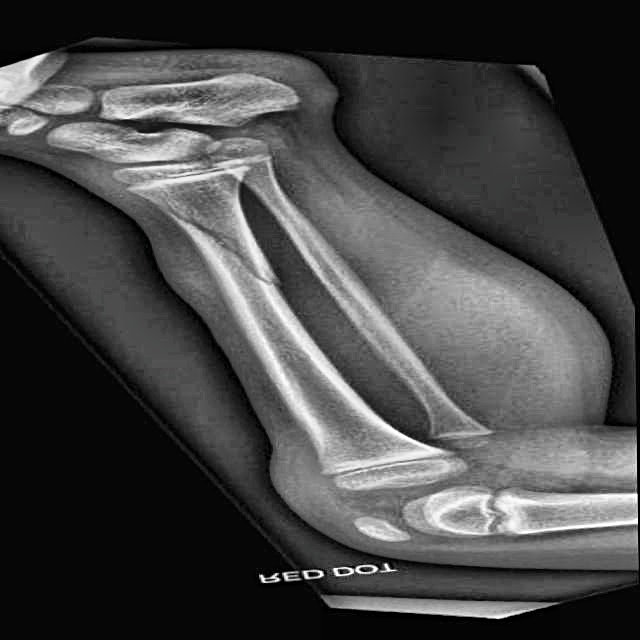Oblique Displaced: (151, 190, 315, 305)
